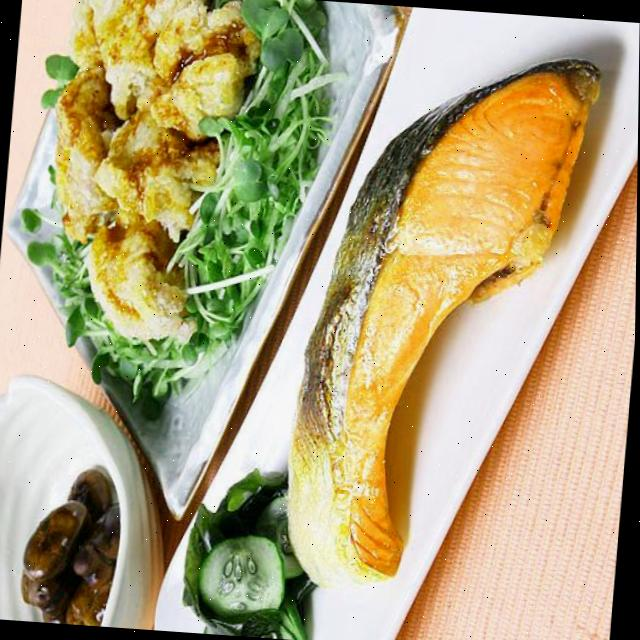熟制海鲜: (261, 0, 614, 630)
